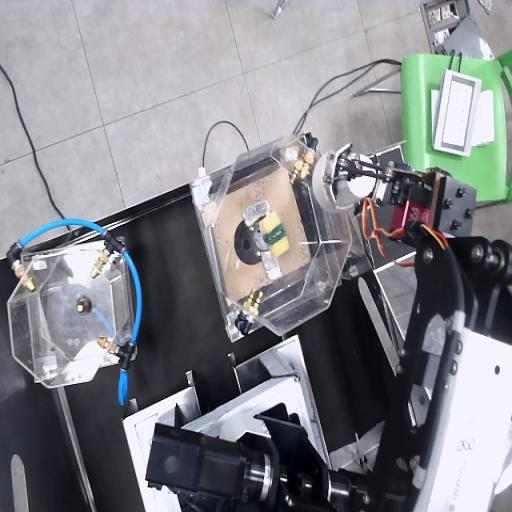cup in wash station: (314, 146, 375, 210)
